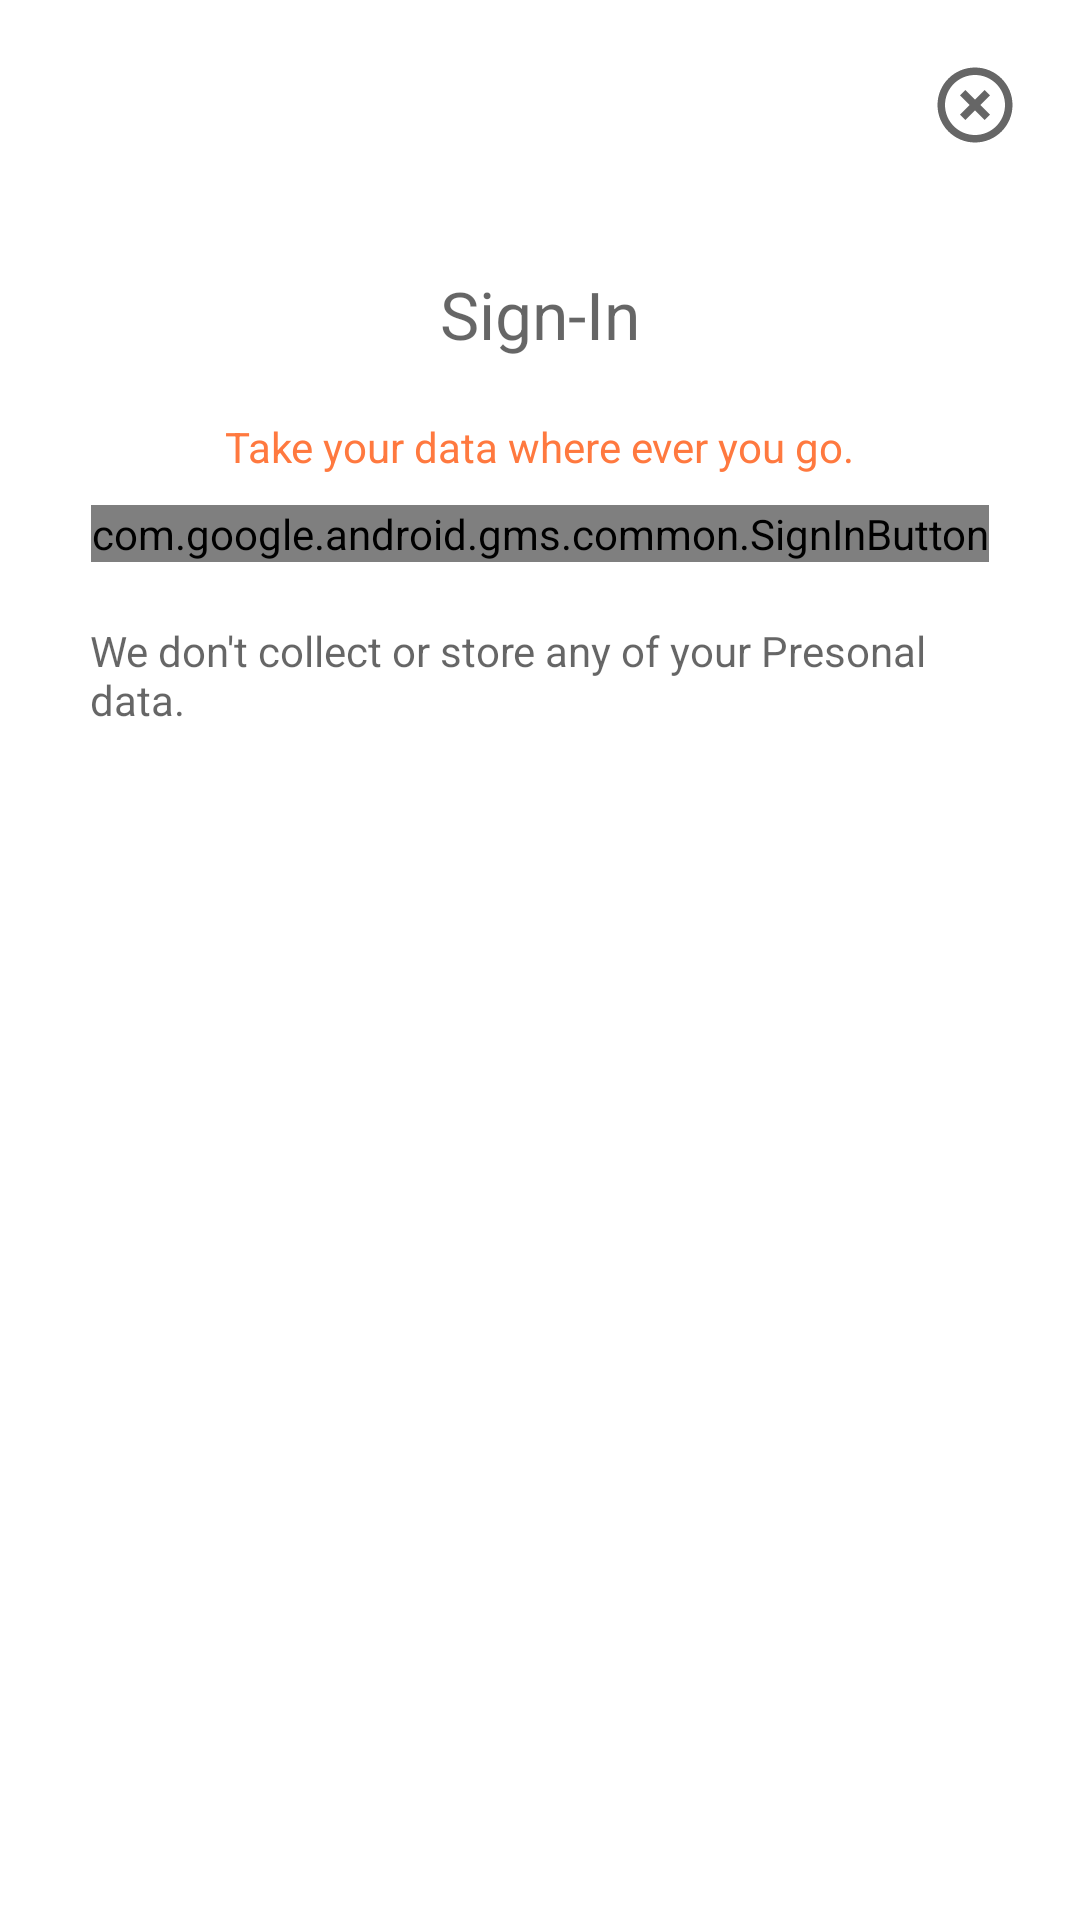

Icon click points for this 1080x1920 phone screenshot, format (x=x, y=y):
close: (x=975, y=105)
